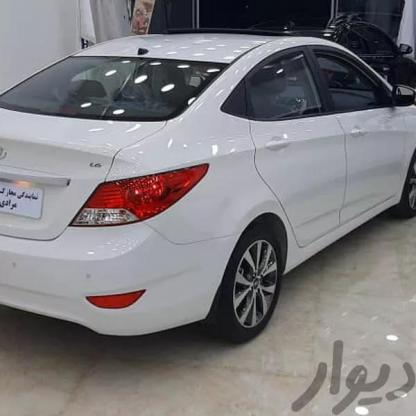Car: (0, 35, 416, 413)
